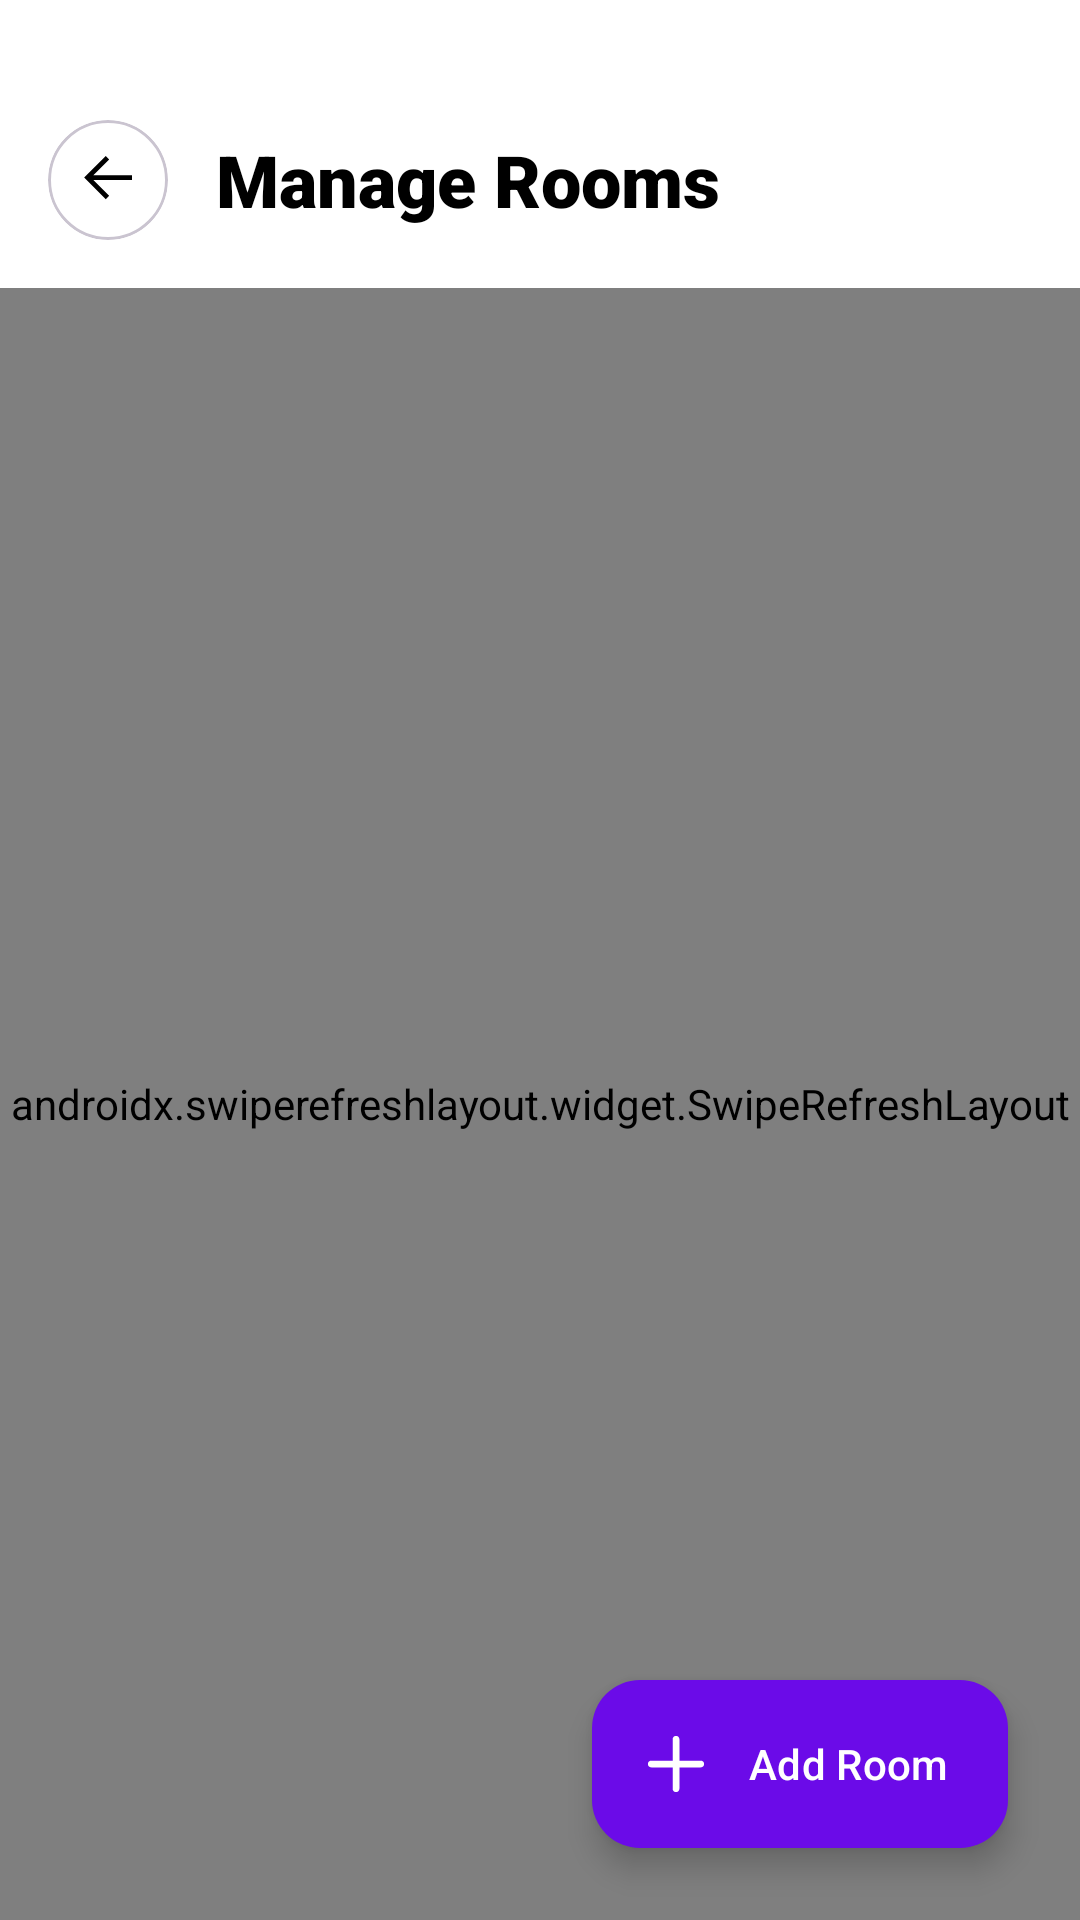

Icon bounding boxes for this 1080 × 1920 phone screenshot, format (x1, y1, x2, y2):
back arrow: (84, 156, 132, 199)
